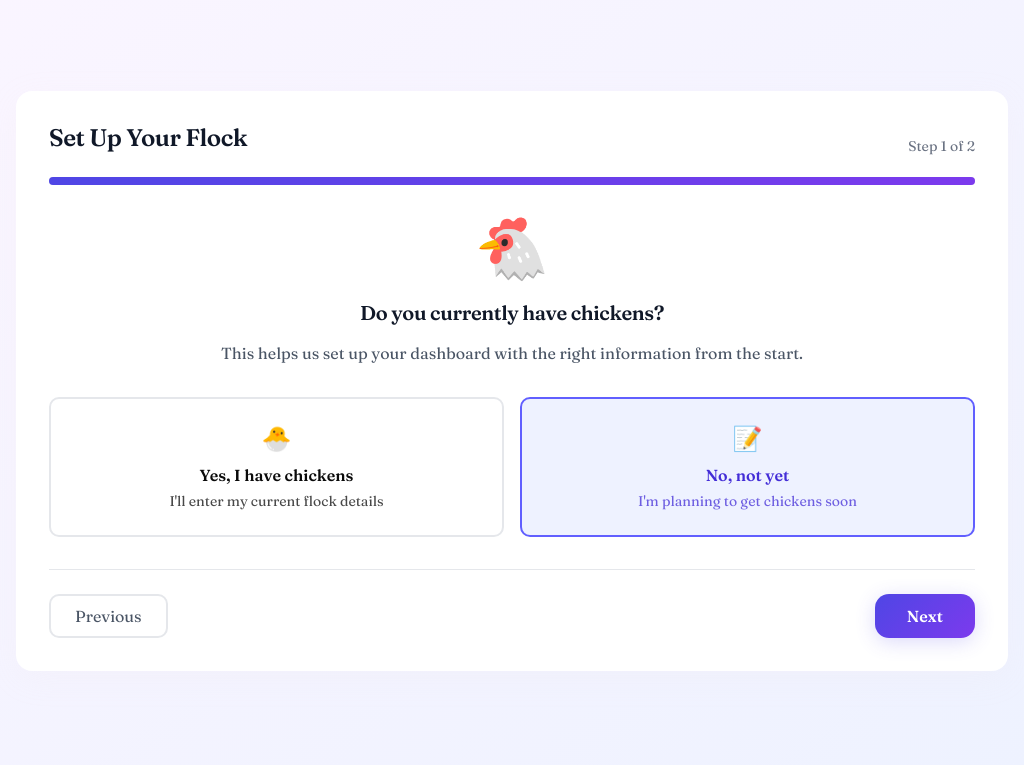
OnboardingWizard › validates required fields in details step
// Select "Yes, I have chickens"
Click the text "Yes, I have chickens".
click(276, 475)  # box left=200, top=465, right=354, bottom=485
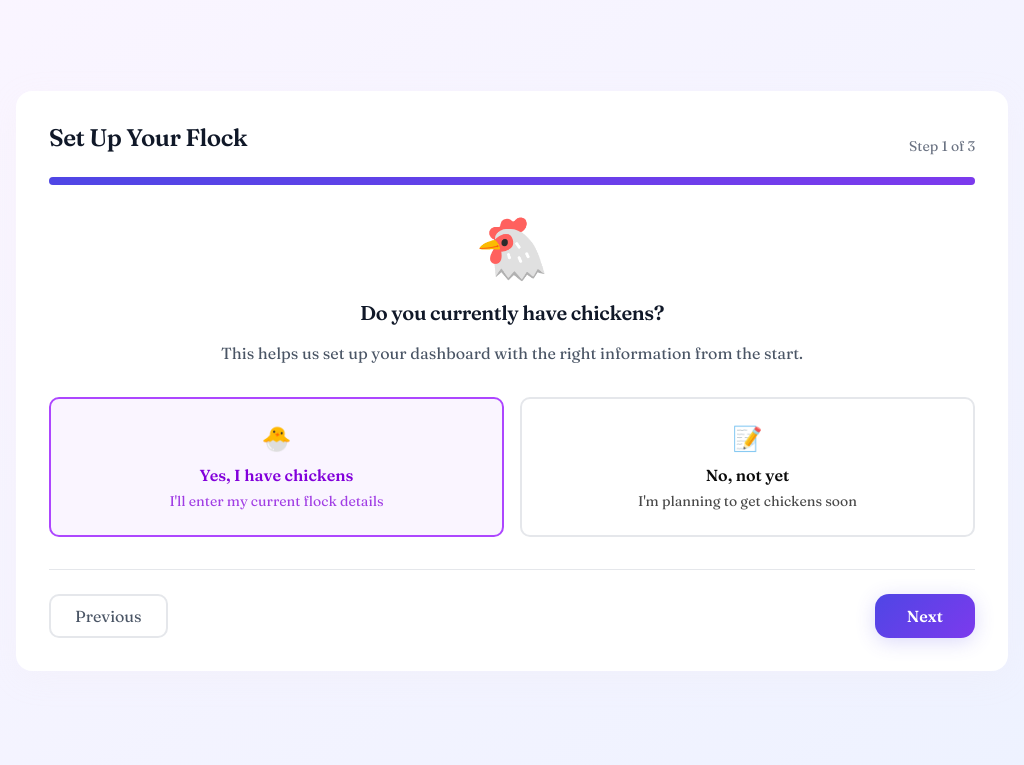
Click the button "Next".
click(925, 616)  # box left=875, top=594, right=975, bottom=638
(page scrolled)
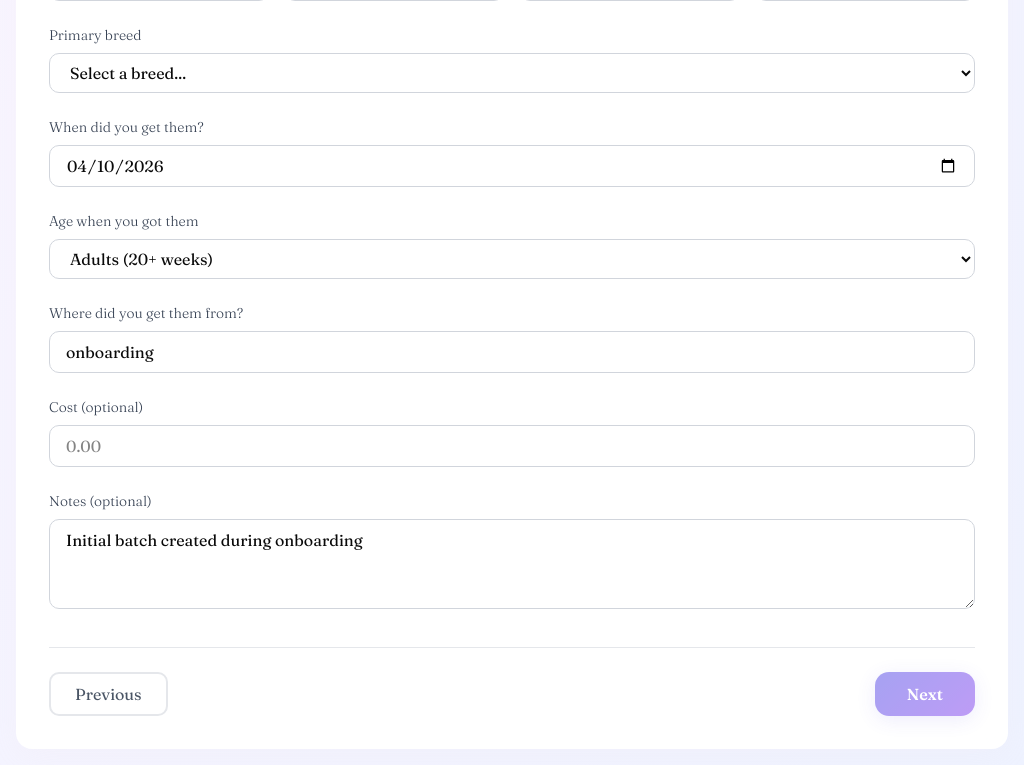
Check: the button "Next" is disabled, box left=875, top=672, right=975, bottom=716
